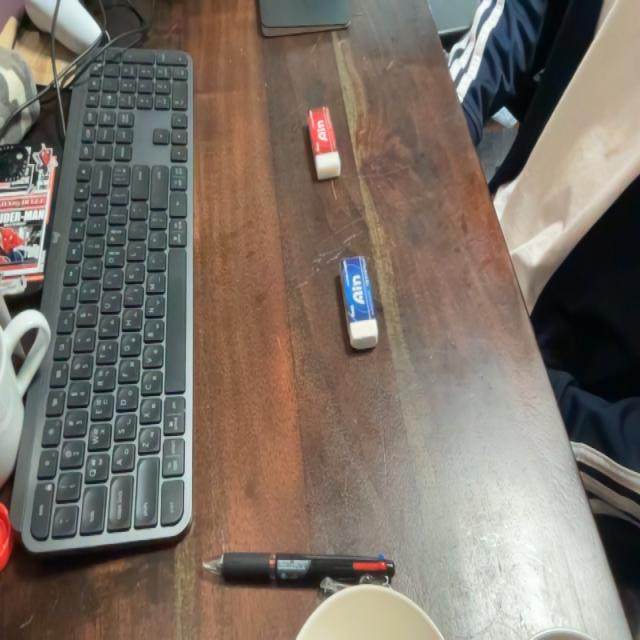blue: (332, 248, 383, 365)
red: (302, 96, 345, 190)
